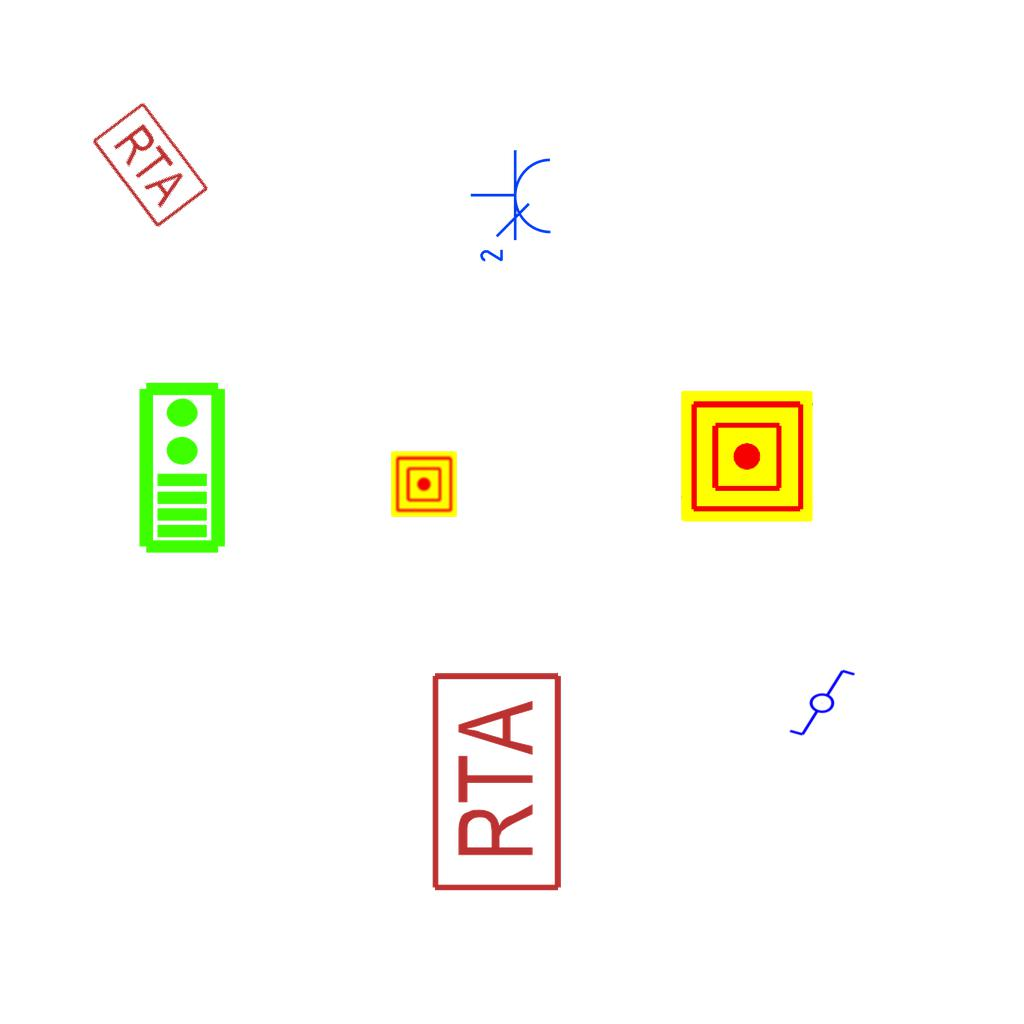Gegensprechanlage_mit_Video: (133, 379, 228, 555)
NAM-Nichtautomatischer_Melder: (681, 390, 813, 522), (391, 451, 457, 517)
Ruf-und_Abstelltaster: (428, 670, 566, 898), (87, 97, 212, 231)
Schukosteckdose_mehrfach: (469, 148, 557, 269)
Wechselschalter: (779, 666, 857, 738)
